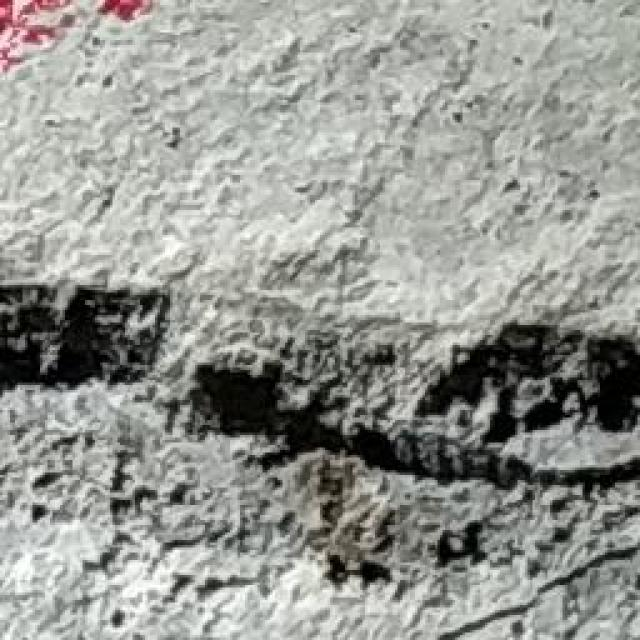Transverse: (6, 247, 640, 580)
